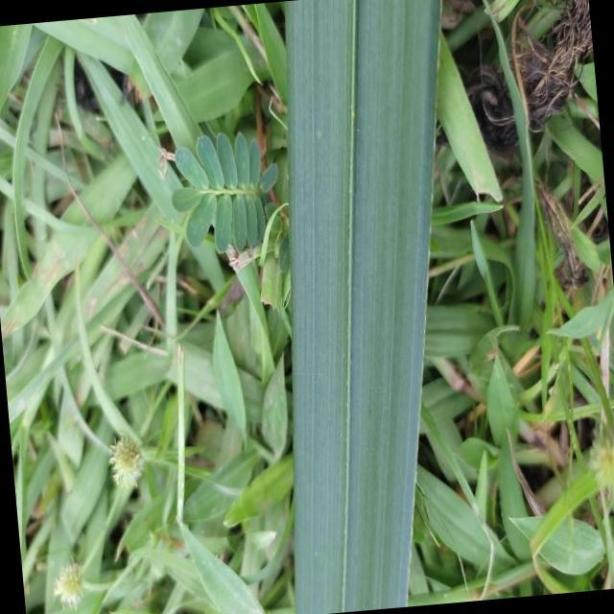Healthy: (286, 1, 436, 614)
